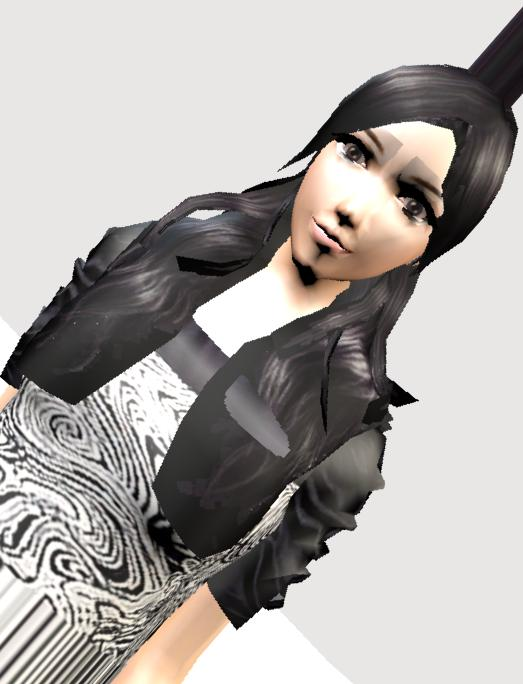clip: (219, 375, 282, 434)
